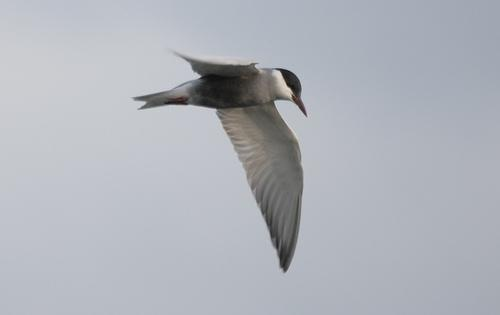bird: (129, 48, 311, 276)
